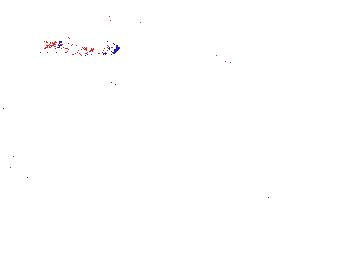X-ray fish: (167, 1, 215, 17)
glassfish: (71, 1, 223, 73)
redtail glassfish: (46, 35, 120, 57)
